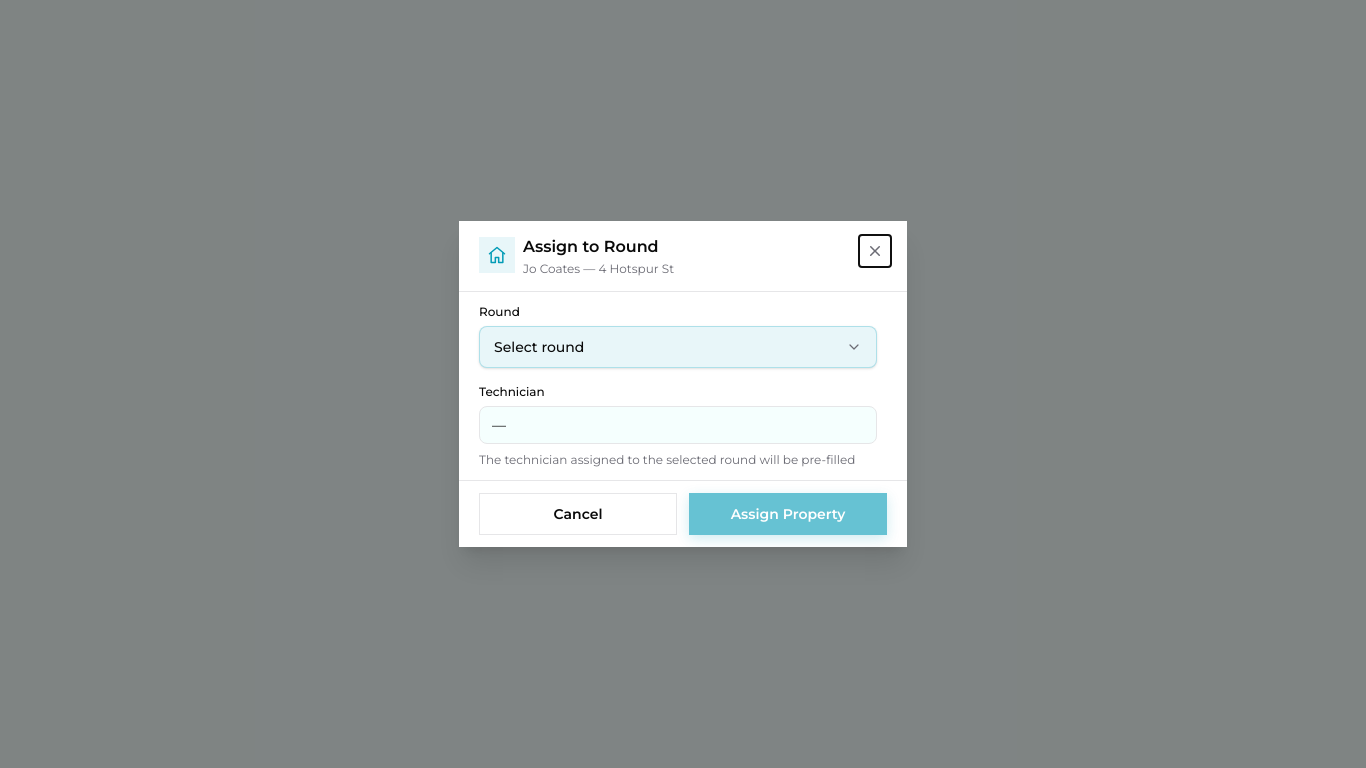
AssignToRoundModal (GAP-018) › keeps a 409 in the modal, clears it on a new pick, then assigns
The width and height of the screenshot is (1366, 768).
What coordinates should you click on to do the following:
click the button "Select round"
I would click on:
 (539, 347)
Its box is [479,326,877,368].
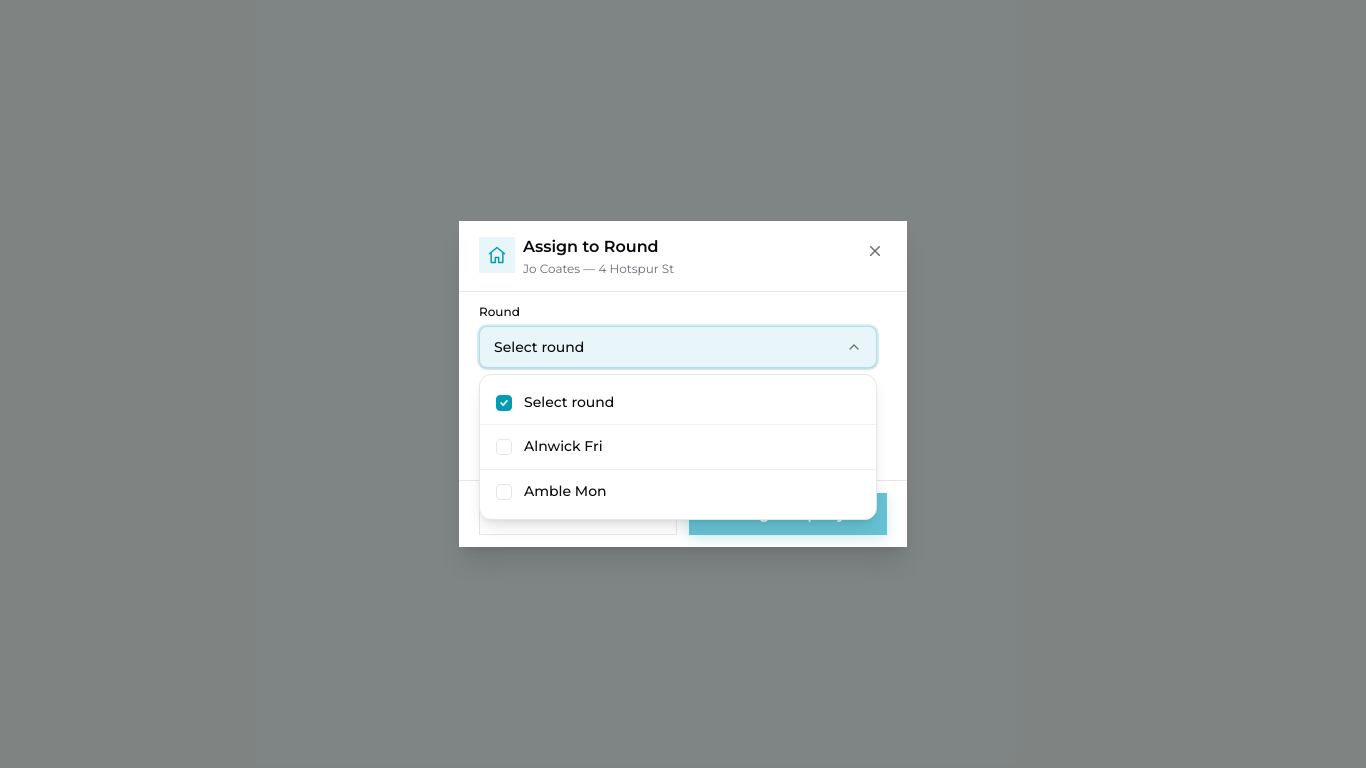
What coordinates should you click on to do the following:
click the option "Alnwick Fri"
I would click on:
 (563, 446)
Its box is [480,425,876,470].
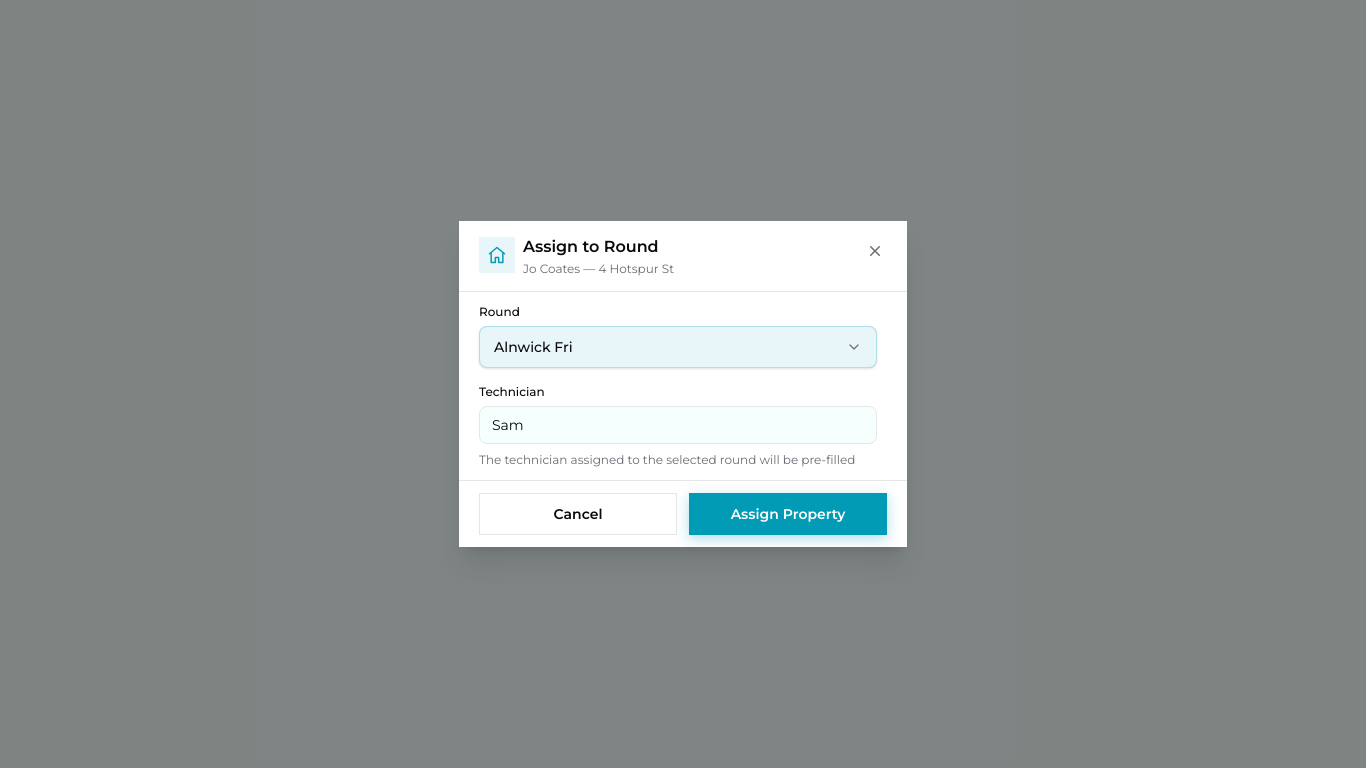
What coordinates should you click on to do the following:
click the button "Assign Property"
I would click on:
 (788, 514)
Its box is [689,493,887,535].
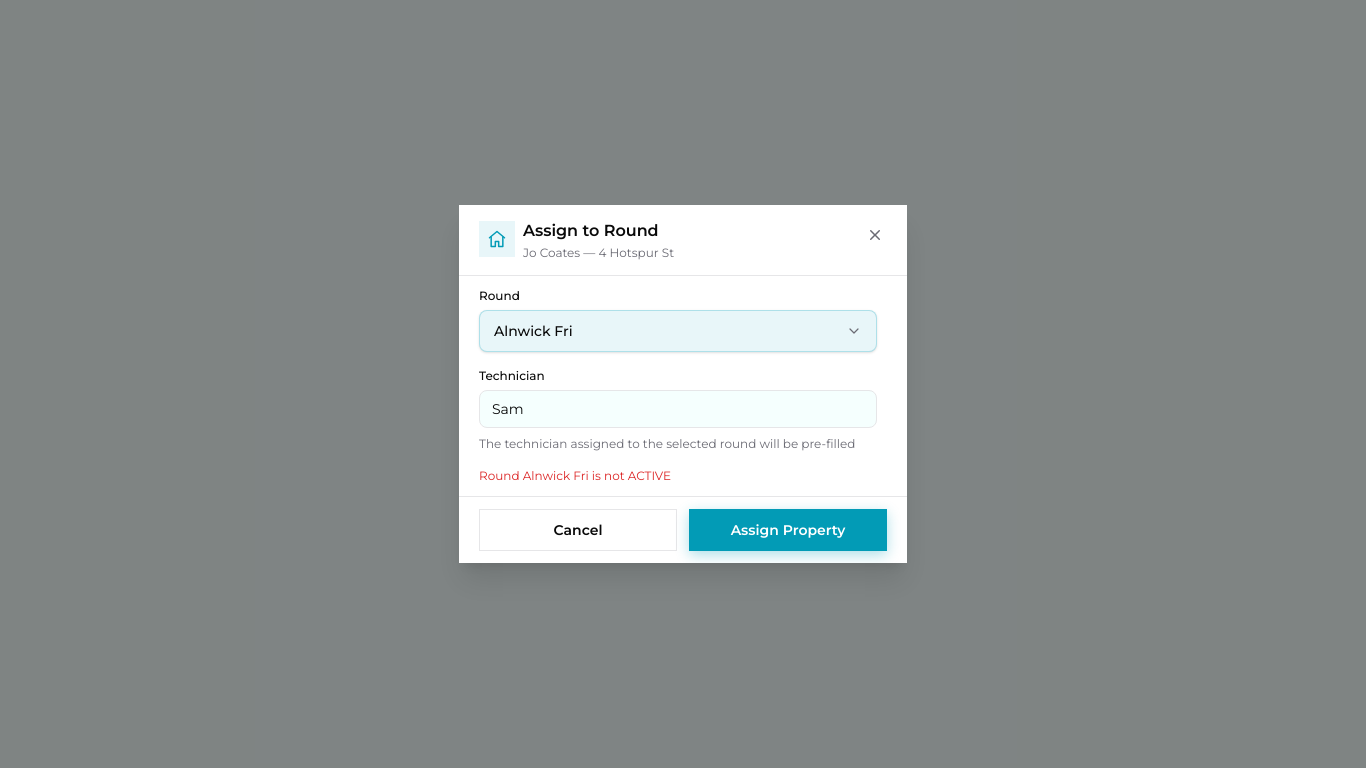
Expected: the text "Round Alnwick Fri is not ACTIVE" is shown, [479,468,671,483]
What coordinates should you click on to do the following:
click the button "Alnwick Fri"
I would click on:
 (533, 331)
Its box is [479,310,877,352].
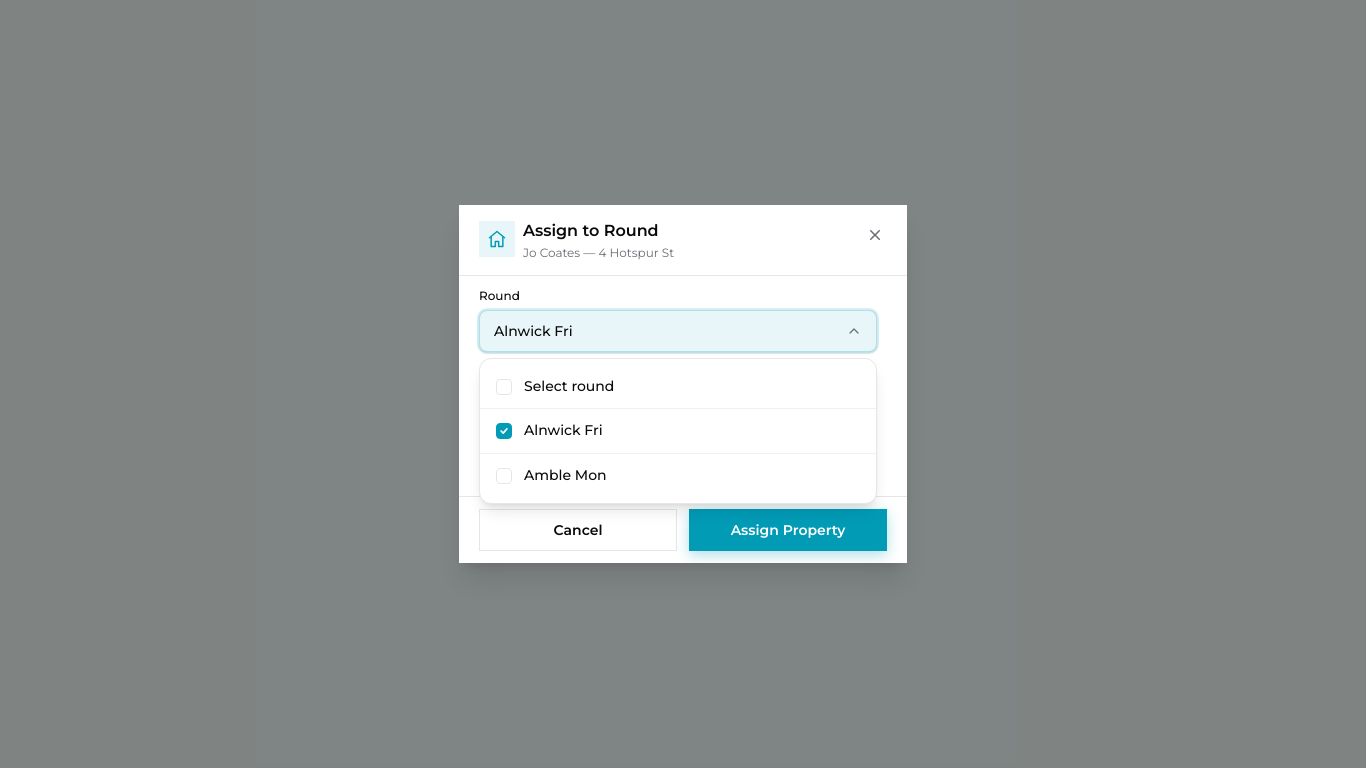
What coordinates should you click on to do the following:
click the option "Amble Mon"
I would click on:
 (565, 474)
Its box is [480,454,876,497].
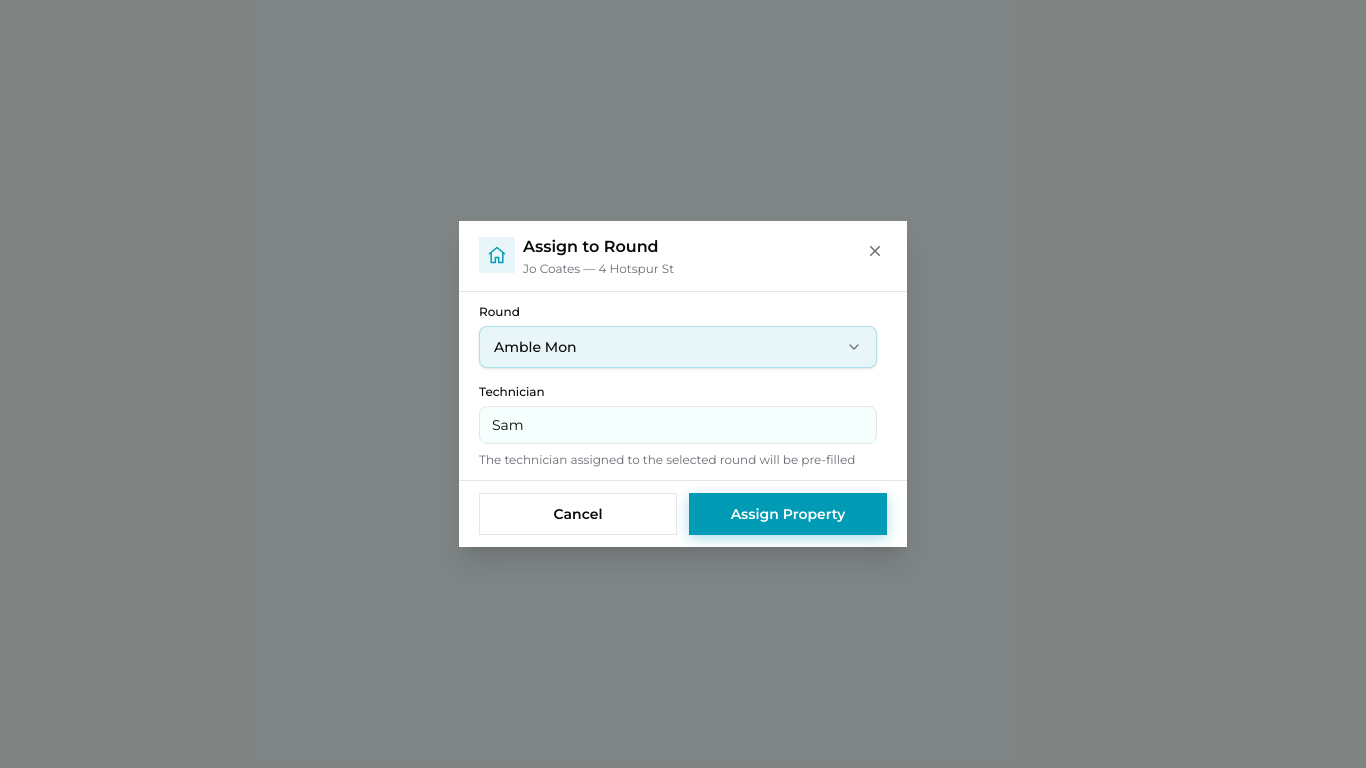
Expected: the text "Round Alnwick Fri is not ACTIVE" is gone
What coordinates should you click on to do the following:
click the button "Assign Property"
I would click on:
 (788, 514)
Its box is [689,493,887,535].
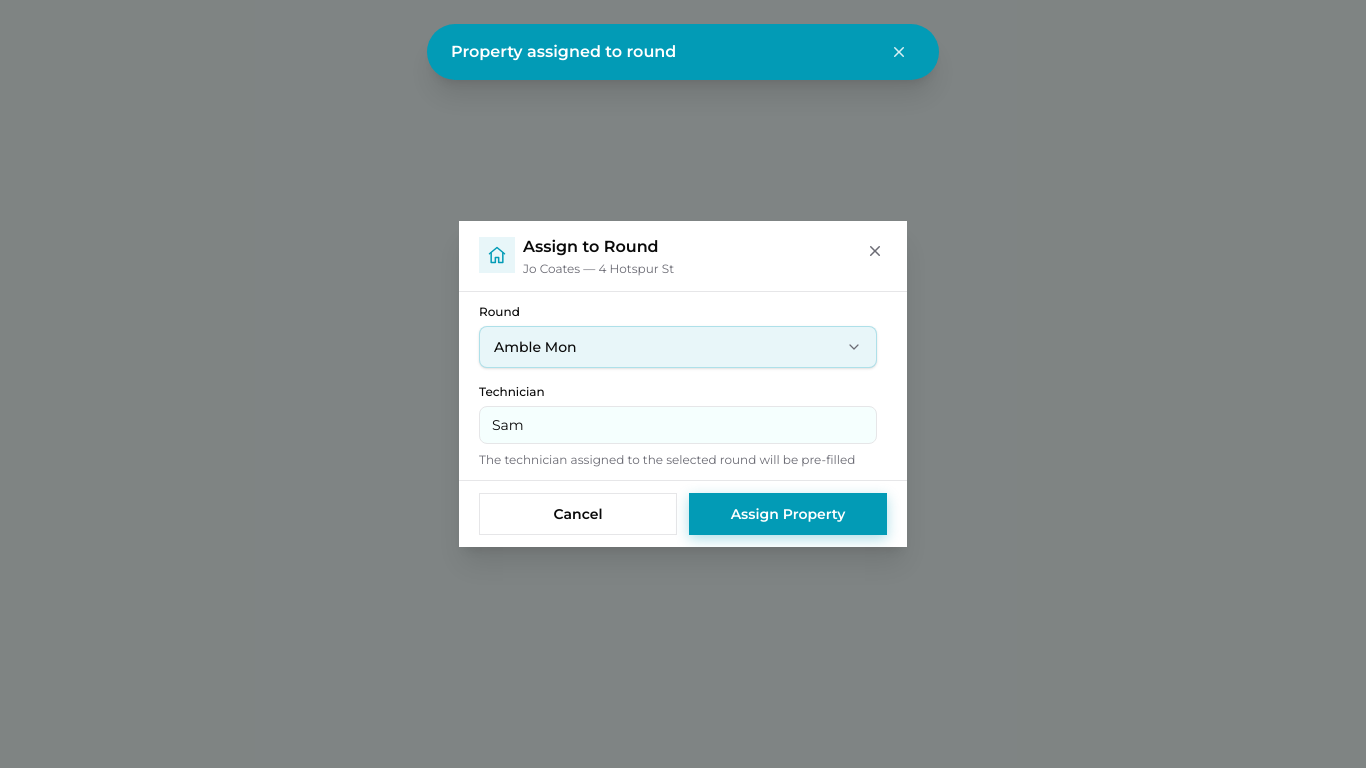
Expected: the text "Property assigned to round" is shown, [451,40,676,64]
